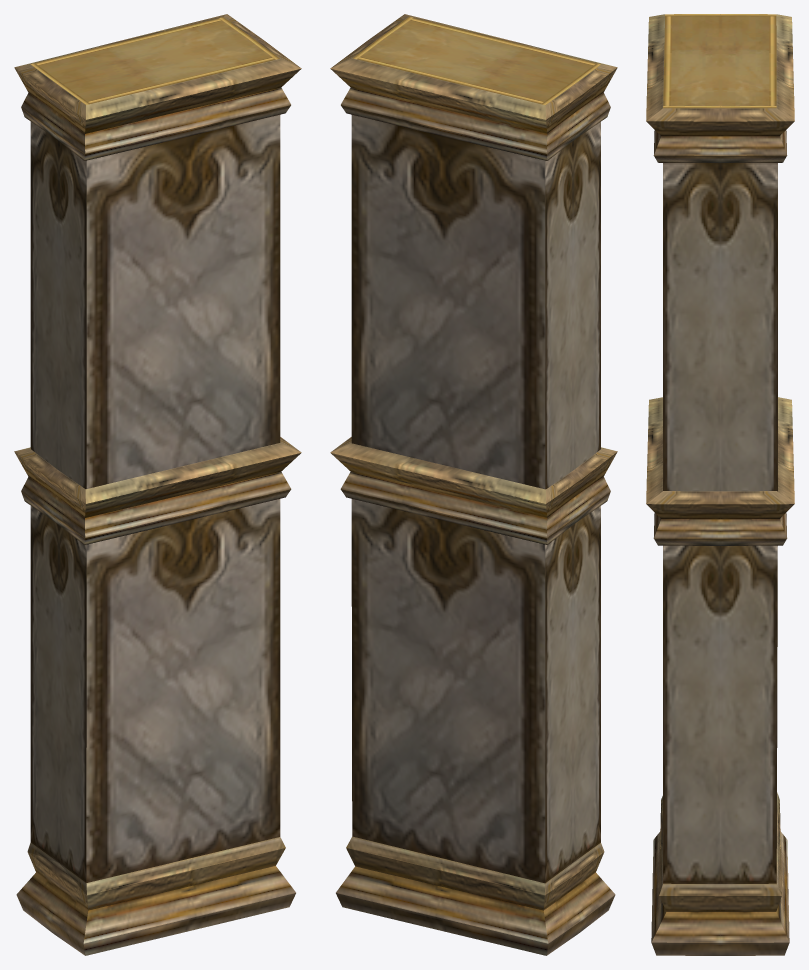
Rendered from S_Build_City188_A1.FBX.
3 views of the same model, side by side, from view 1: azimuth 30°, elevation 25°; view 2: azimuth 150°, elevation 25°; view 3: azimuth 270°, elevation 25° (orthographic).
Parts seen in each view (by area): view 1: S_Build_City188_A1; view 2: S_Build_City188_A1; view 3: S_Build_City188_A1.
Part boxes in pixels (x1,y1,x2,y2): S_Build_City188_A1: (14,14,301,955); S_Build_City188_A1: (330,14,617,955); S_Build_City188_A1: (646,14,794,955).
Size of the model in its own units: 543 by 2030 by 324.
